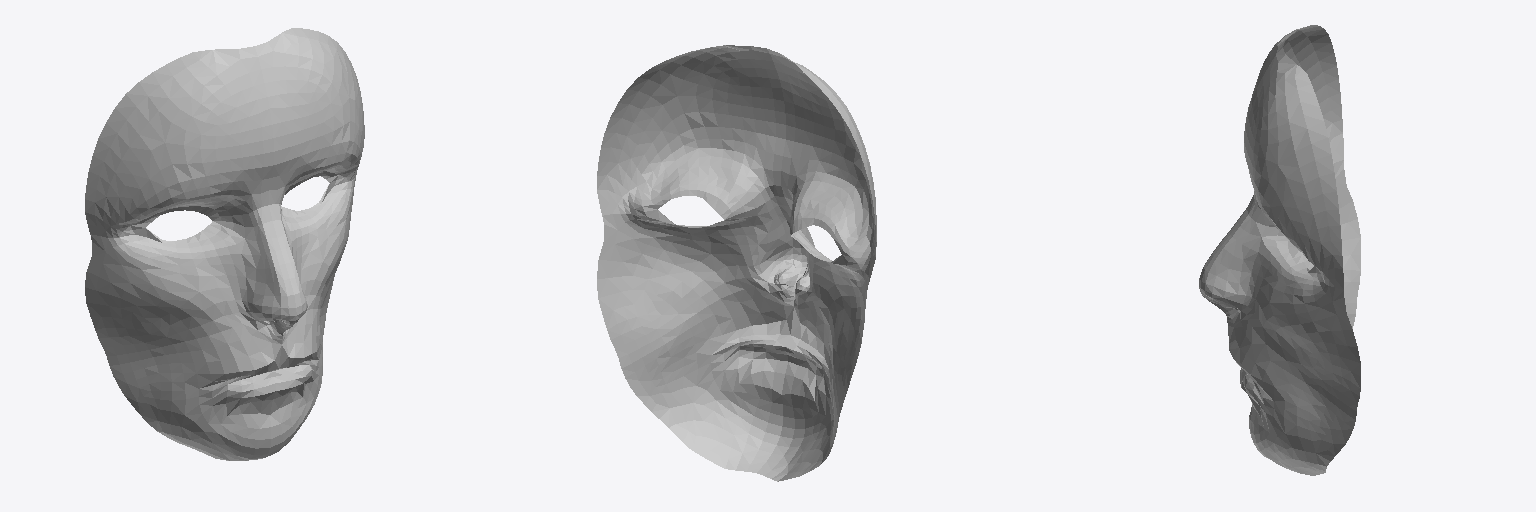
The model's file is FaceFinal.obj.
3 renders of one model, left to right at view 1: azimuth 30°, elevation 25°; view 2: azimuth 150°, elevation 25°; view 3: azimuth 270°, elevation 25°, orthographic.
Visible parts, largest first — view 1: ZBrush_defualt_group; view 2: ZBrush_defualt_group; view 3: ZBrush_defualt_group.
Part boxes in pixels (bbox=[...]): ZBrush_defualt_group: bbox=[85, 28, 364, 460]; ZBrush_defualt_group: bbox=[597, 45, 876, 481]; ZBrush_defualt_group: bbox=[1199, 25, 1360, 475].
Bounding box in the file's own units: 3.12 × 4.45 × 1.57.